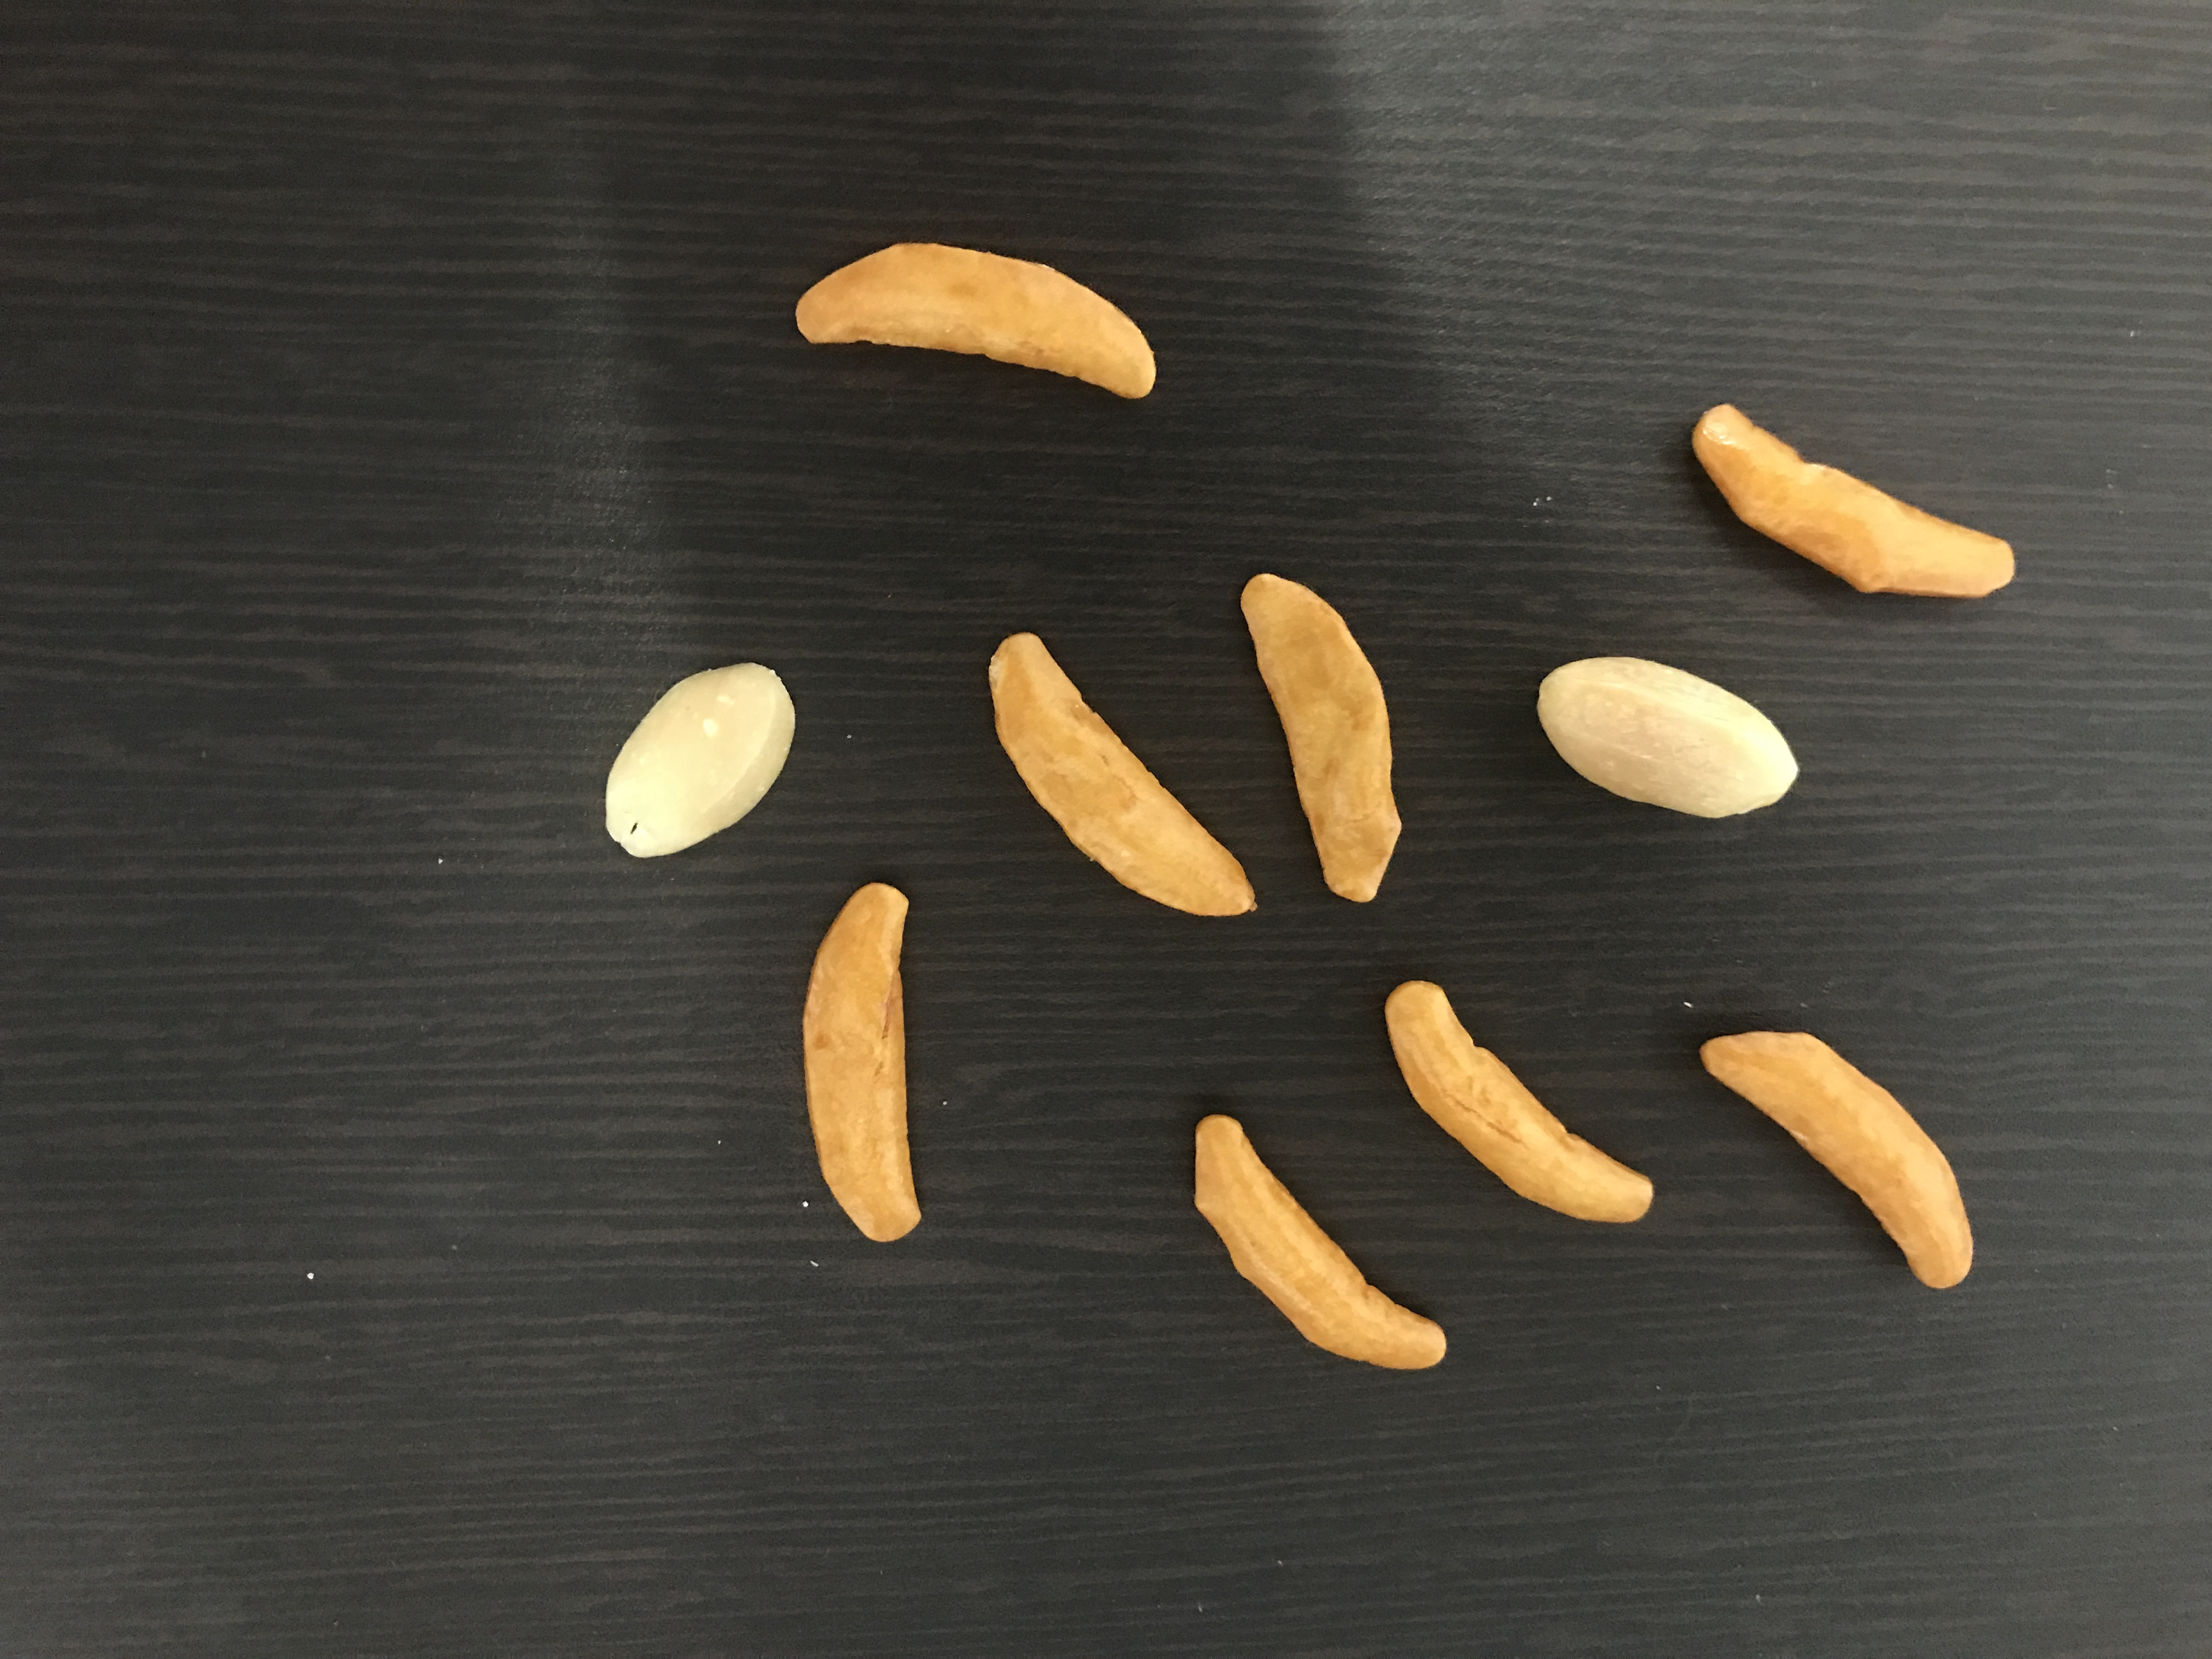peanut: (1526, 641, 1817, 836), (592, 653, 805, 866)
